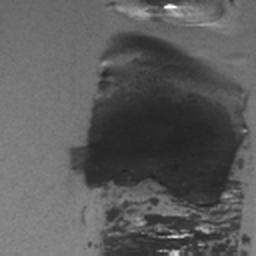Slag inclusion: (70, 32, 253, 256), (102, 0, 236, 32)
